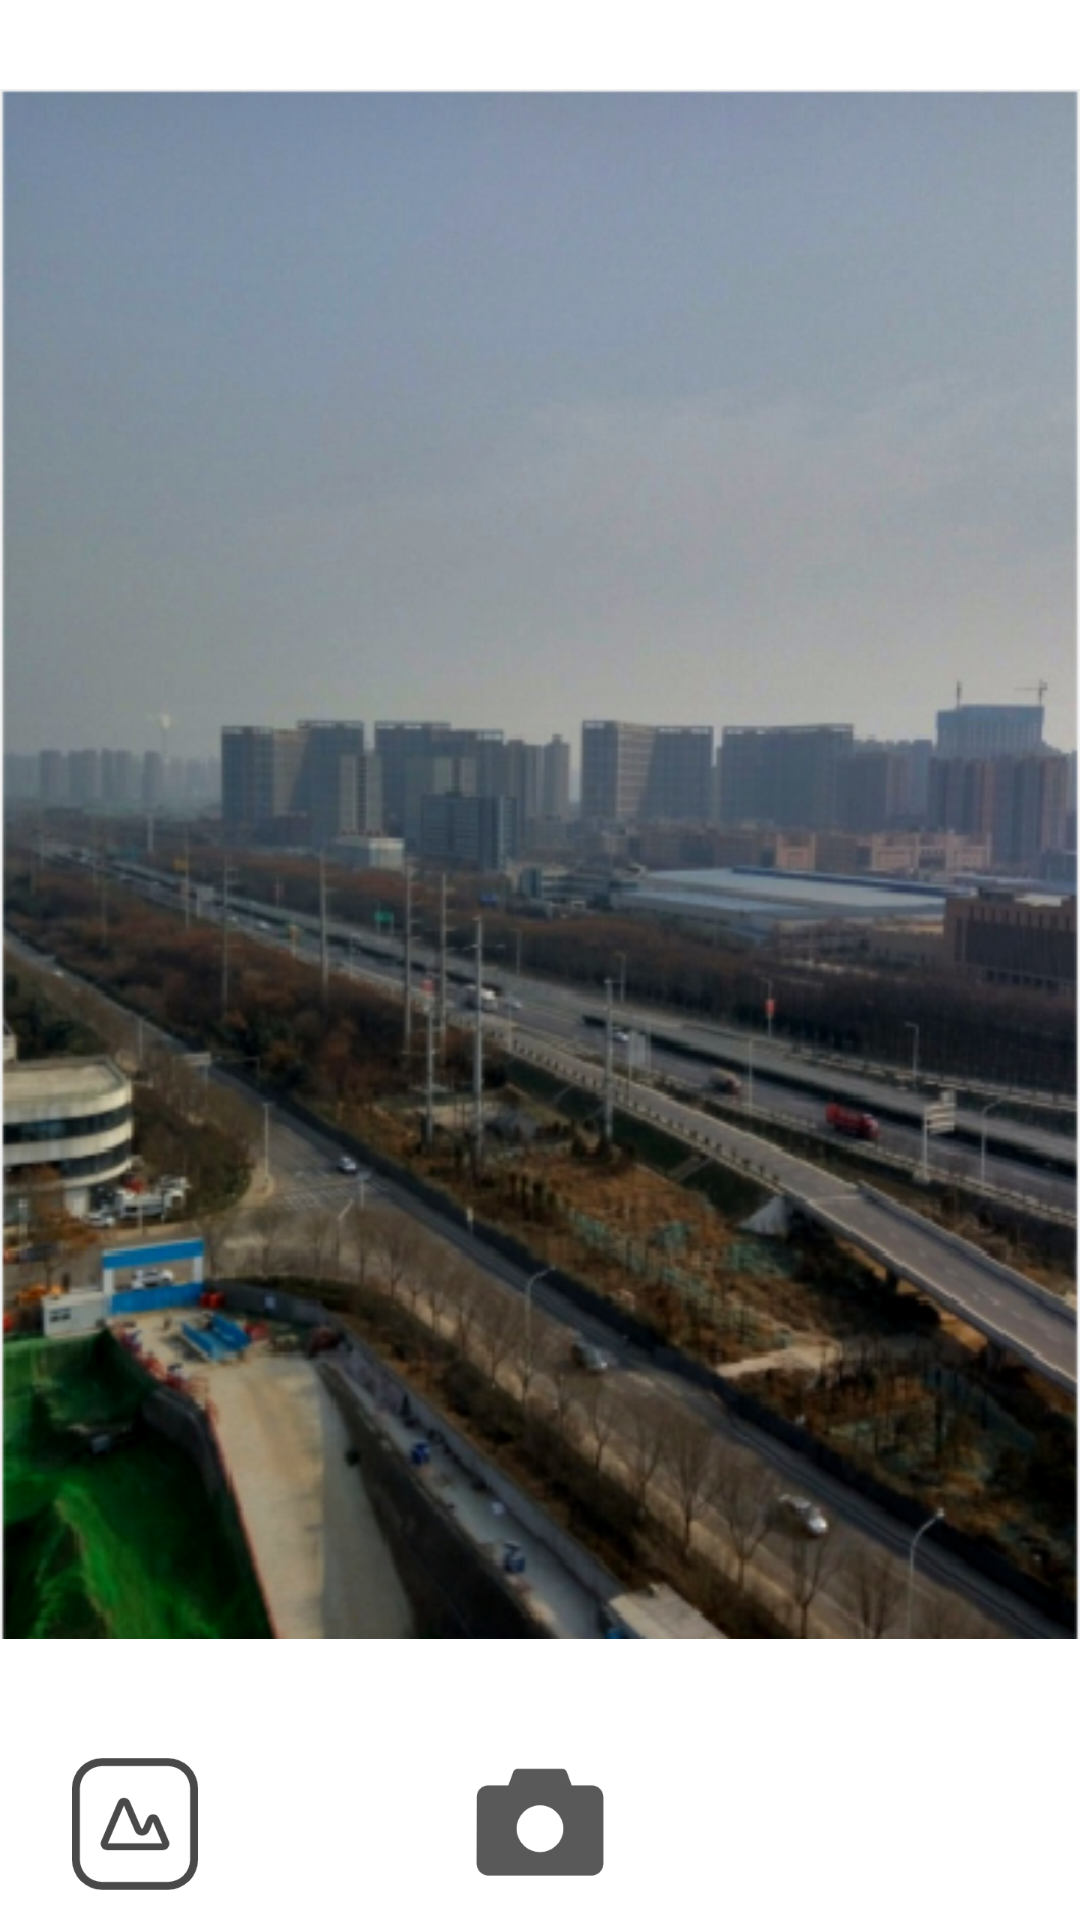

Point at icon controls on the screen. Image size 1080px x 1920px, points as [x,y].
open album: [135,1824]
take photo: [540,1822]
